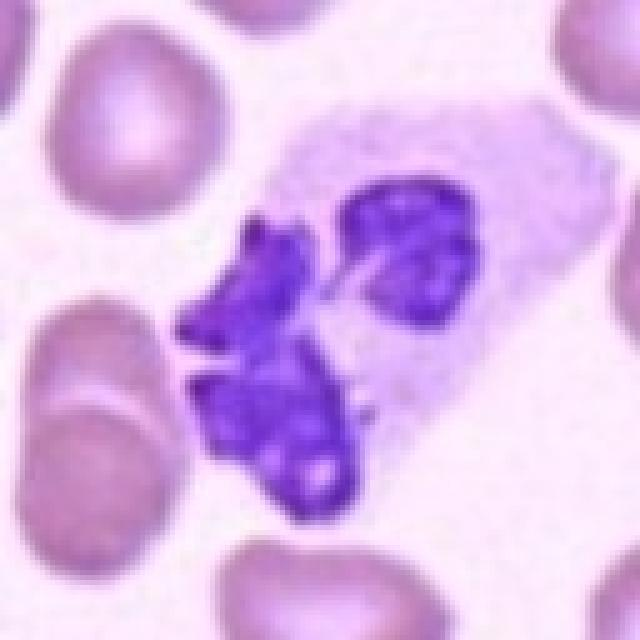neutro: (86, 74, 607, 552)
